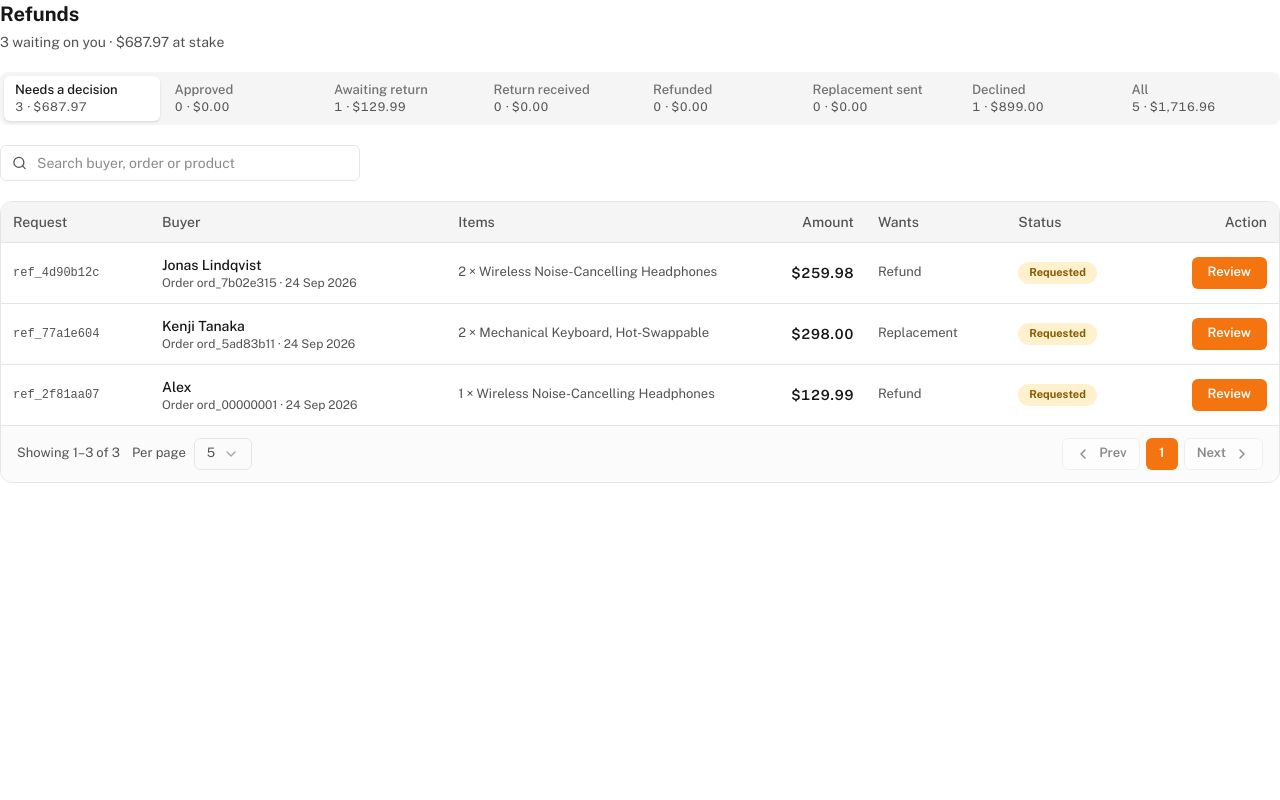
Test: drawer state in the URL › Seller Refunds › keeps the queue tab and page when a request is opened
Click the button "Review" in the row of "ref_4d90b12c" at (1229, 272), box [1192, 256, 1267, 288]
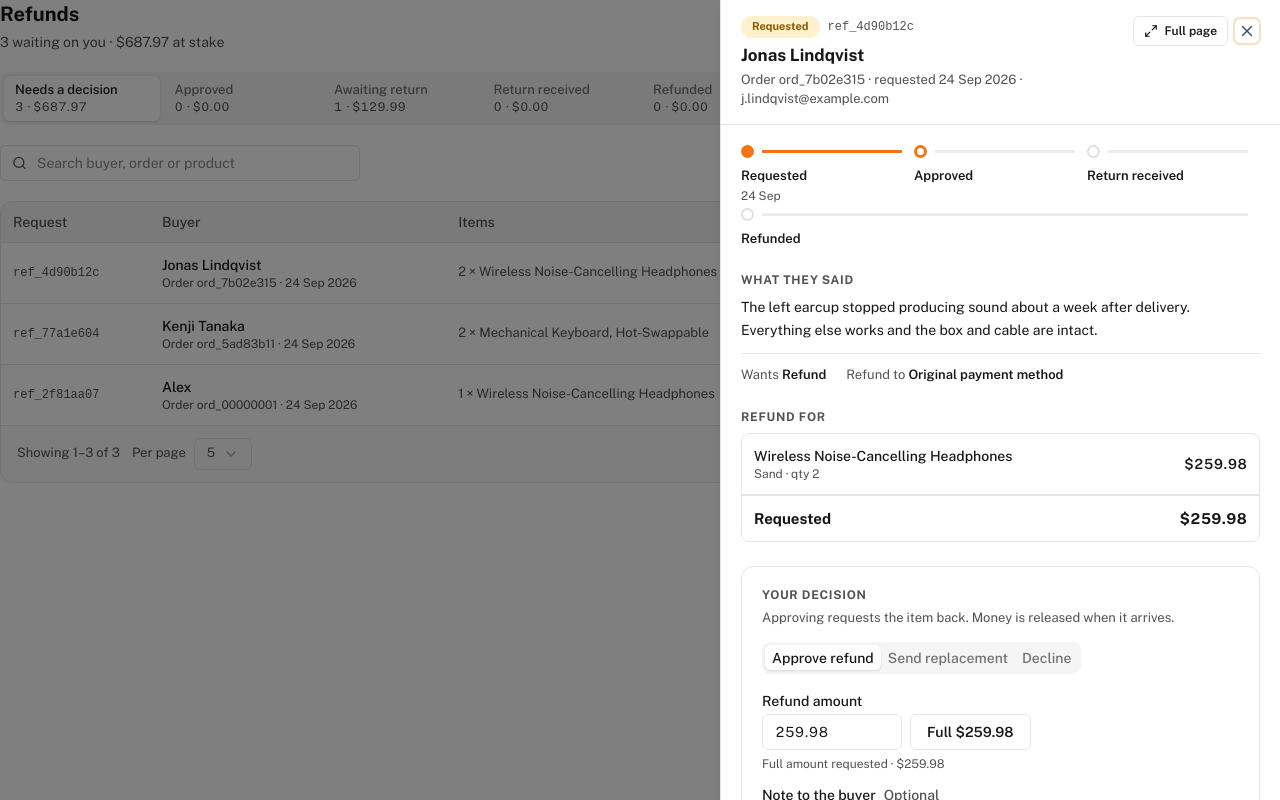
Check: the dialog named "Refund request" is shown, box [720, 0, 1279, 799]
